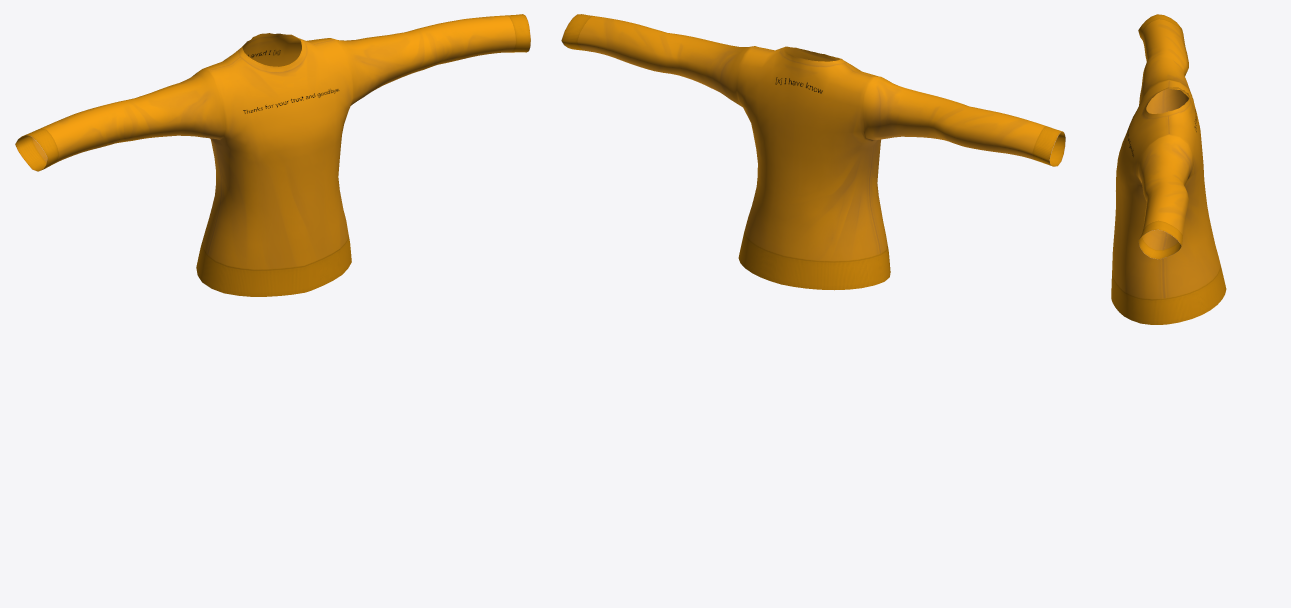
Rendered from longsleeve_tpose.glb.
3 renders of one model, left to right at view 1: azimuth 30°, elevation 25°; view 2: azimuth 150°, elevation 25°; view 3: azimuth 270°, elevation 25°, orthographic. The views are drawn at different scales.
Parts seen in each view (by area): view 1: longsleeve_tpose; view 2: longsleeve_tpose; view 3: longsleeve_tpose.
Boxes of the visible parts, x1,y1,x2,y2 form: longsleeve_tpose: [15, 14, 530, 296]; longsleeve_tpose: [561, 14, 1065, 290]; longsleeve_tpose: [1111, 14, 1226, 324].
Size of the model in its own units: 1.77 by 1.8 by 0.6225.
1 material, 1 textured.
